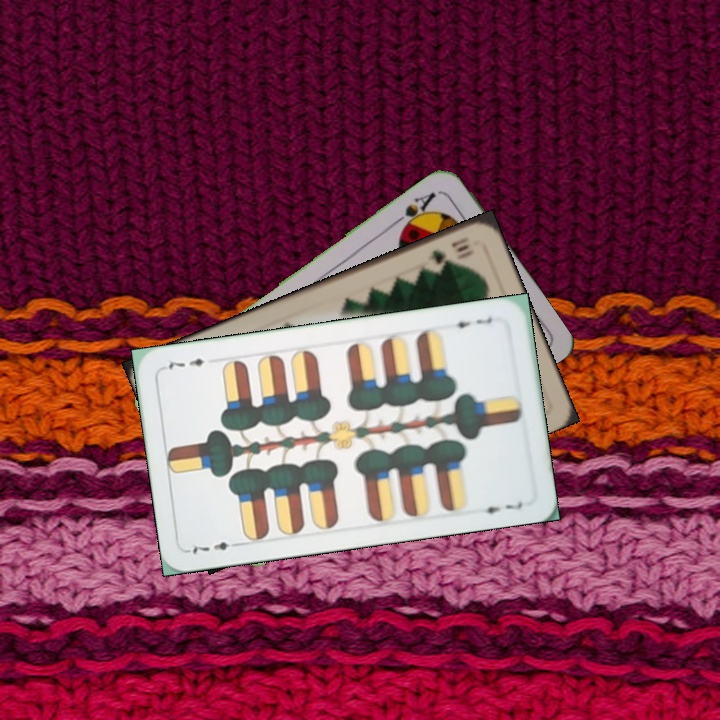E7: (185, 537, 244, 556), (445, 313, 495, 331)
G10: (424, 233, 472, 267)
SA: (391, 188, 439, 234)
